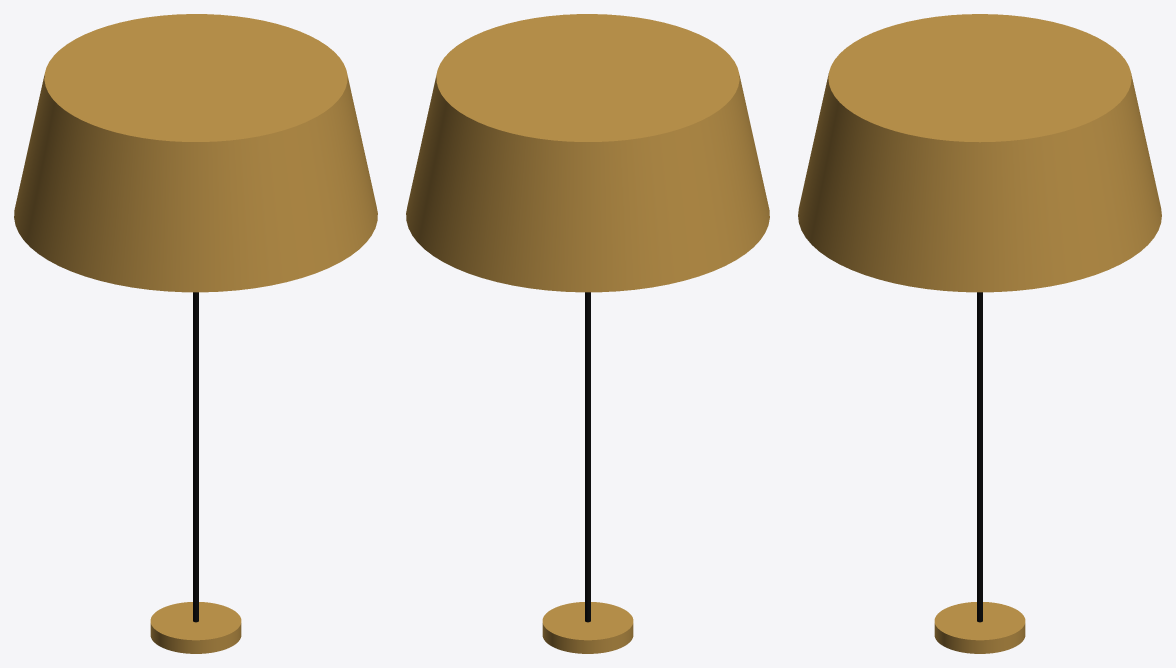
Rendered from modern_pendant_lamp.obj.
3 views of the same model, side by side, from view 1: azimuth 30°, elevation 25°; view 2: azimuth 150°, elevation 25°; view 3: azimuth 270°, elevation 25° (orthographic).
Visible parts, largest first — view 1: shade, ceiling_cap, cord; view 2: shade, ceiling_cap, cord; view 3: shade, ceiling_cap, cord.
Boxes of the visible parts, <box> form: shade: <box>14,14,377,292</box>; ceiling_cap: <box>150,602,241,653</box>; cord: <box>193,292,198,622</box>; shade: <box>406,14,769,292</box>; ceiling_cap: <box>542,602,633,653</box>; cord: <box>585,292,590,622</box>; shade: <box>798,14,1161,292</box>; ceiling_cap: <box>934,602,1025,653</box>; cord: <box>977,292,982,622</box>.
Bounding box in the file's own units: 0.48 × 0.81 × 0.48.
